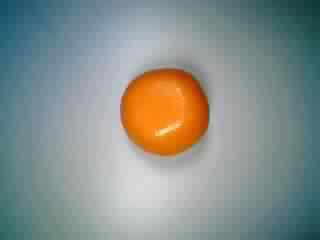orange: (115, 58, 210, 160)
